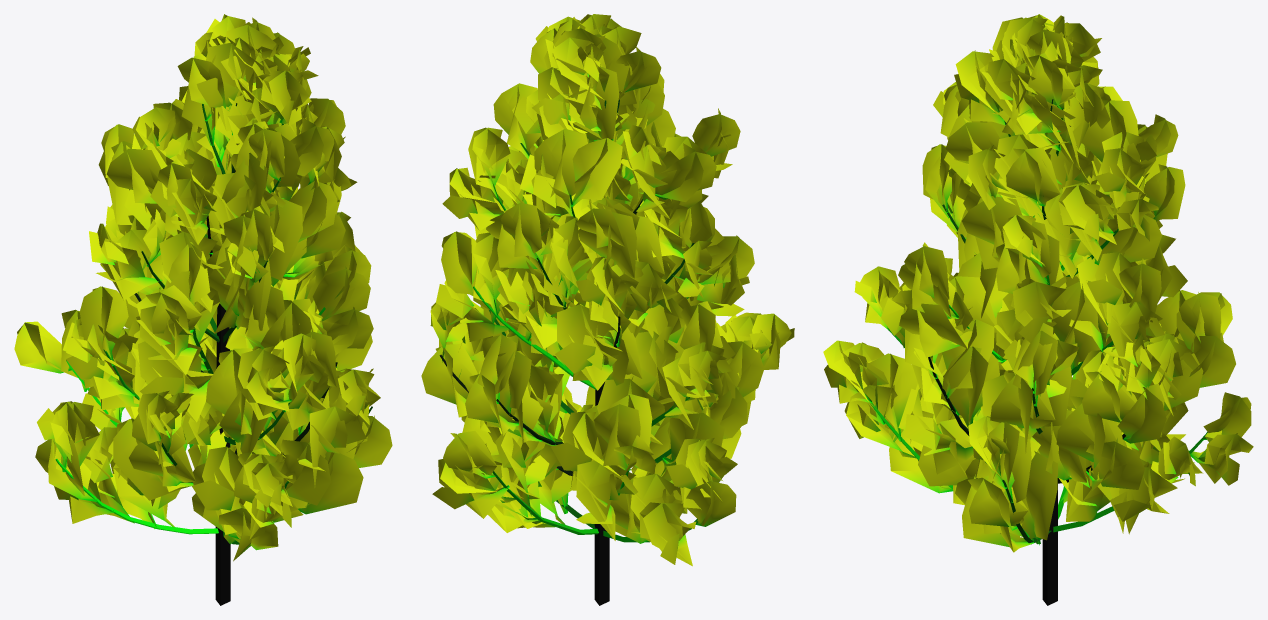
The model's file is Pine_002_S2_baked_hierarchy.fbx.
3 renders of one model, left to right at view 1: azimuth 30°, elevation 25°; view 2: azimuth 150°, elevation 25°; view 3: azimuth 270°, elevation 25°, orthographic. The views are drawn at different scales.
Parts seen in each view (by area): view 1: S2_LOD0; view 2: S2_LOD0; view 3: S2_LOD0.
Boxes of the visible parts, x1,y1,x2,y2 form: S2_LOD0: (14, 14, 392, 605); S2_LOD0: (421, 14, 794, 605); S2_LOD0: (823, 14, 1253, 605).
Bounding box in the file's own units: 266 × 510 × 336.
